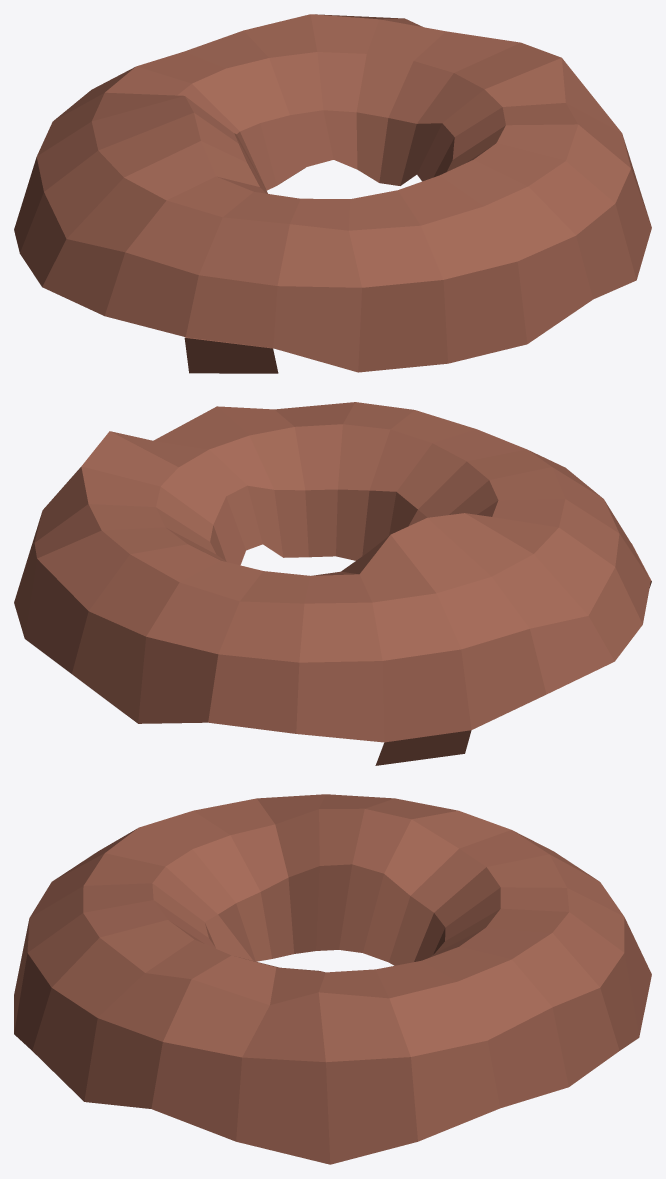
File: lowpolydonut_icing_brown.glb
3 views of the same model, one above another, from view 1: azimuth 30°, elevation 25°; view 2: azimuth 150°, elevation 25°; view 3: azimuth 270°, elevation 25° (orthographic). The views are drawn at different scales.
Parts seen in each view (by area): view 1: Icing; view 2: Icing; view 3: Icing.
Part boxes in pixels (<box>): Icing: <box>14,14,651,373</box>; Icing: <box>14,402,651,765</box>; Icing: <box>14,794,651,1164</box>.
Size of the model in its own units: 0.0925 by 0.0264 by 0.0892.
